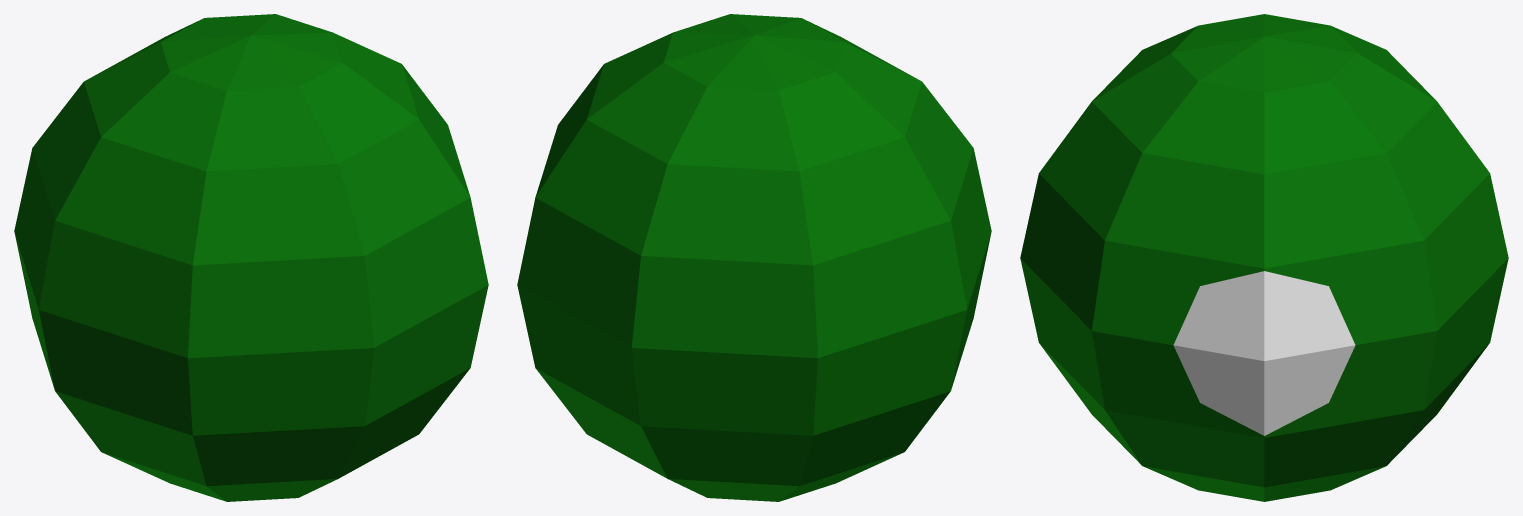
File: verde1.obj
3 renders of one model, left to right at view 1: azimuth 30°, elevation 25°; view 2: azimuth 150°, elevation 25°; view 3: azimuth 270°, elevation 25°, orthographic.
Parts seen in each view (by area): view 1: all_balls.011; view 2: all_balls.011; view 3: all_balls.011.
Boxes of the visible parts, <box> form: all_balls.011: <box>14,14,488,501</box>; all_balls.011: <box>517,14,991,501</box>; all_balls.011: <box>1020,14,1508,501</box>.
Bounding box in the file's own units: 0.3459 × 0.3459 × 0.3459.
